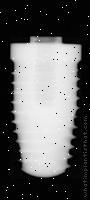Biomet 3i: (10, 37, 82, 179)
